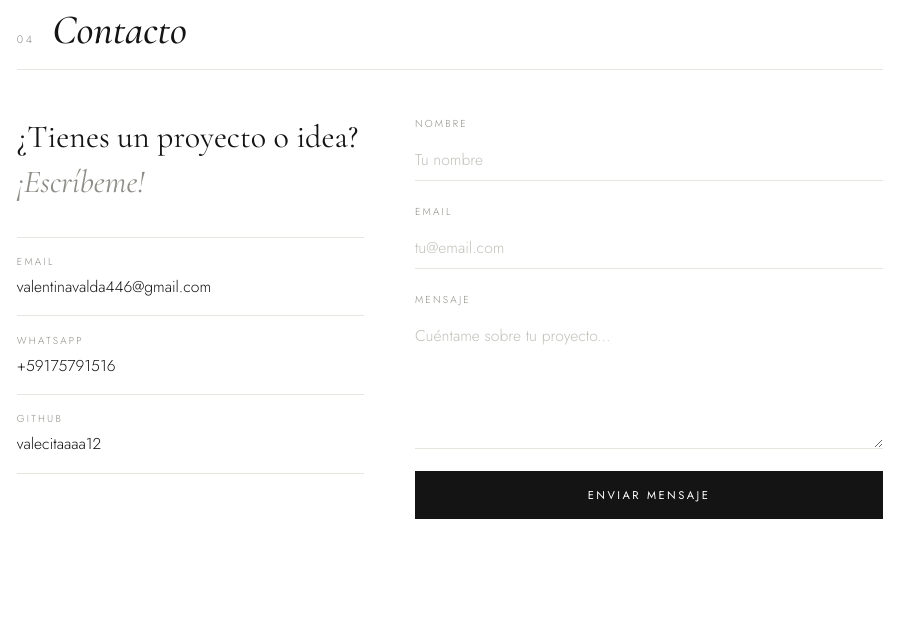
Test case: Contact › muestra errores al enviar el formulario vacío
Click the button "Enviar mensaje". click: (649, 495)
box: 415,471 -> 883,519
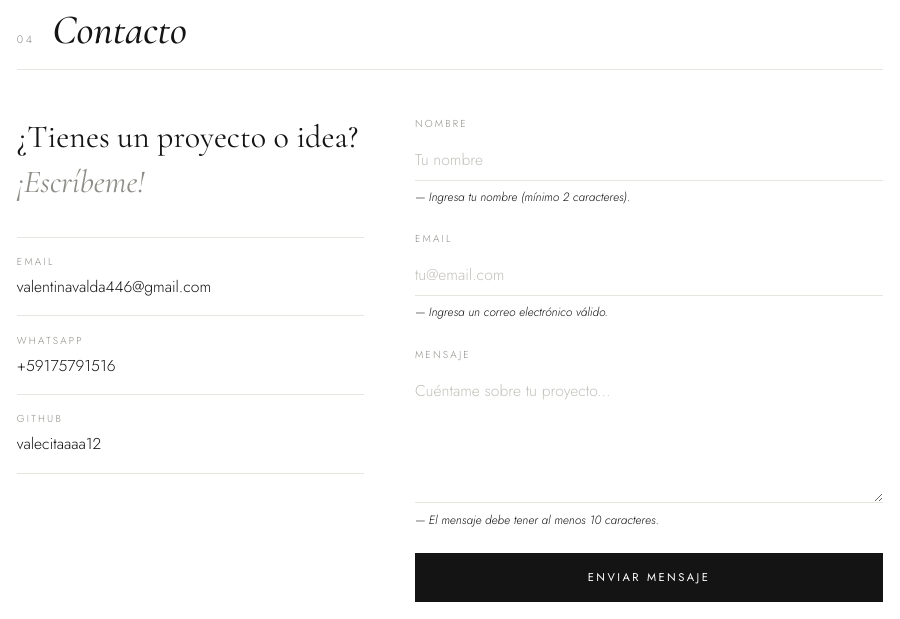
Now the text "Ingresa tu nombre (mínimo 2 caracteres)." is shown, box 429,188 -> 630,206
Now the text "Ingresa un correo electrónico válido." is shown, box 429,303 -> 608,321
Now the text "El mensaje debe tener al menos 10 caracteres." is shown, box 429,511 -> 659,529
